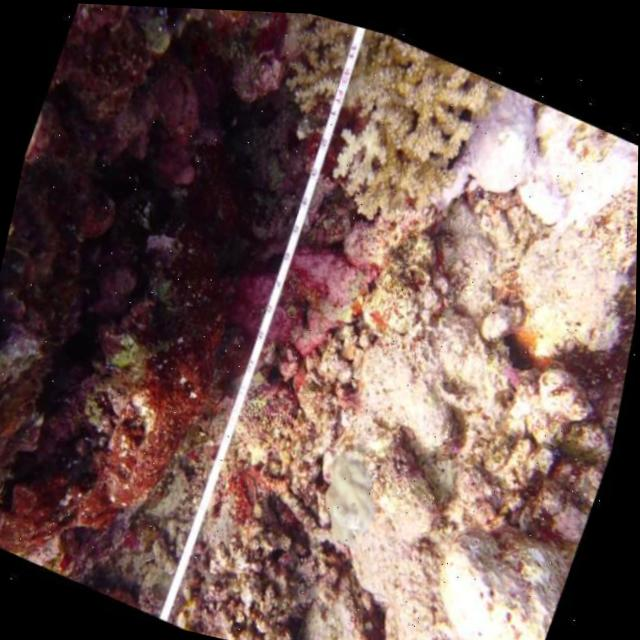Bleached Coral: (420, 58, 626, 248), (286, 417, 417, 567), (320, 79, 415, 198)
